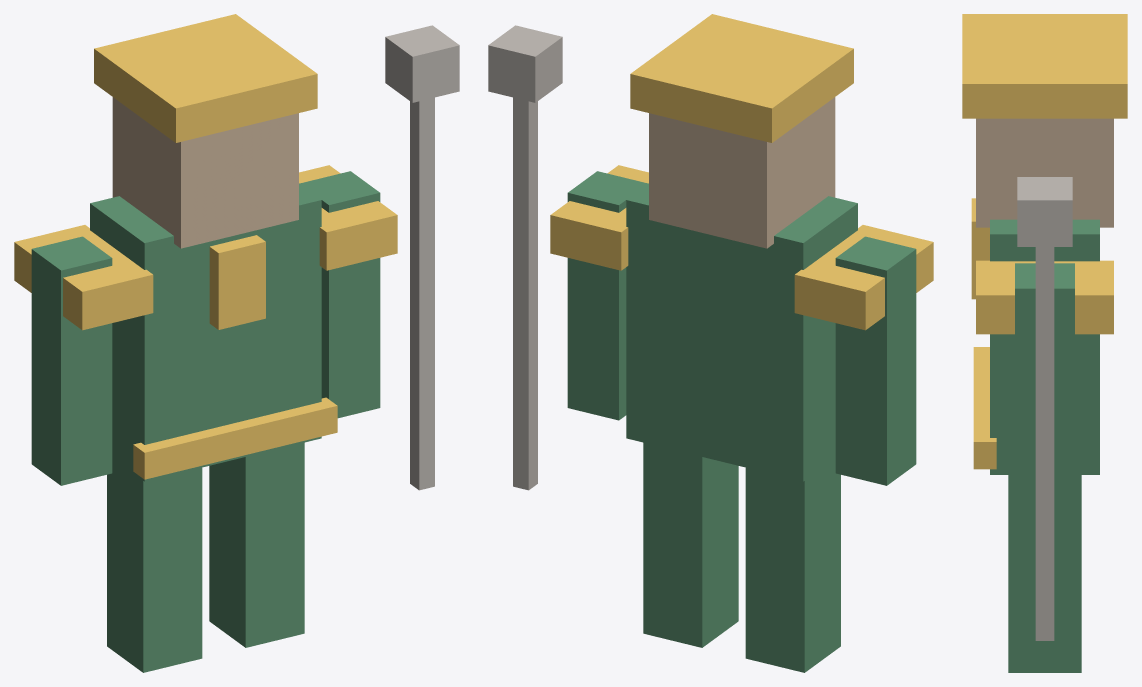
The model's file is 10_orin_mossguard_smith_near.glb.
3 renders of one model, left to right at view 1: azimuth 30°, elevation 25°; view 2: azimuth 150°, elevation 25°; view 3: azimuth 270°, elevation 25°, orthographic.
Parts seen in each view (by area): view 1: Orin Mossguard, Smith near; view 2: Orin Mossguard, Smith near; view 3: Orin Mossguard, Smith near.
Part boxes in pixels (bbox=[...]): Orin Mossguard, Smith near: bbox=[14, 14, 459, 672]; Orin Mossguard, Smith near: bbox=[488, 14, 933, 672]; Orin Mossguard, Smith near: bbox=[962, 14, 1127, 672].
Size of the model in its own units: 1.09 by 1.5 by 0.3858.
